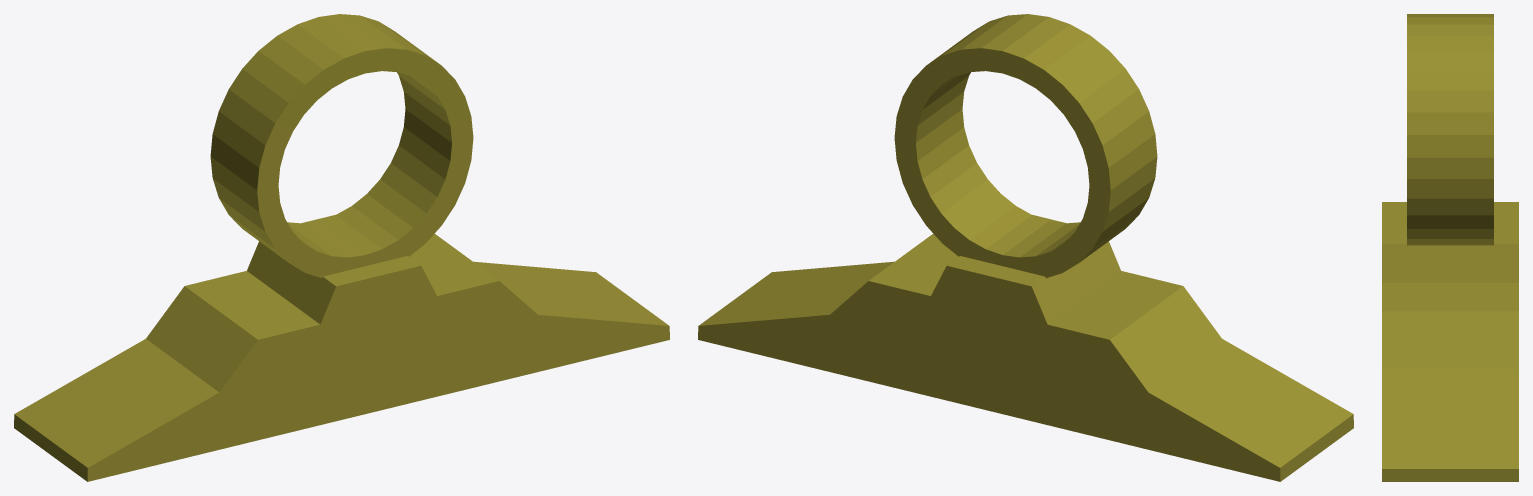
Rendered from keyParts1.obj.
3 views of the same model, side by side, from view 1: azimuth 30°, elevation 25°; view 2: azimuth 150°, elevation 25°; view 3: azimuth 270°, elevation 25° (orthographic). The views are drawn at different scales.
Visible parts, largest first — view 1: parts1_円柱.001; view 2: parts1_円柱.001; view 3: parts1_円柱.001.
Boxes of the visible parts, <box> form: parts1_円柱.001: <box>14,14,669,481</box>; parts1_円柱.001: <box>698,14,1353,481</box>; parts1_円柱.001: <box>1382,14,1518,481</box>.
Size of the model in its own units: 0.8923 by 0.5124 by 0.1952.
Materials: 1 (1 with a texture image).
